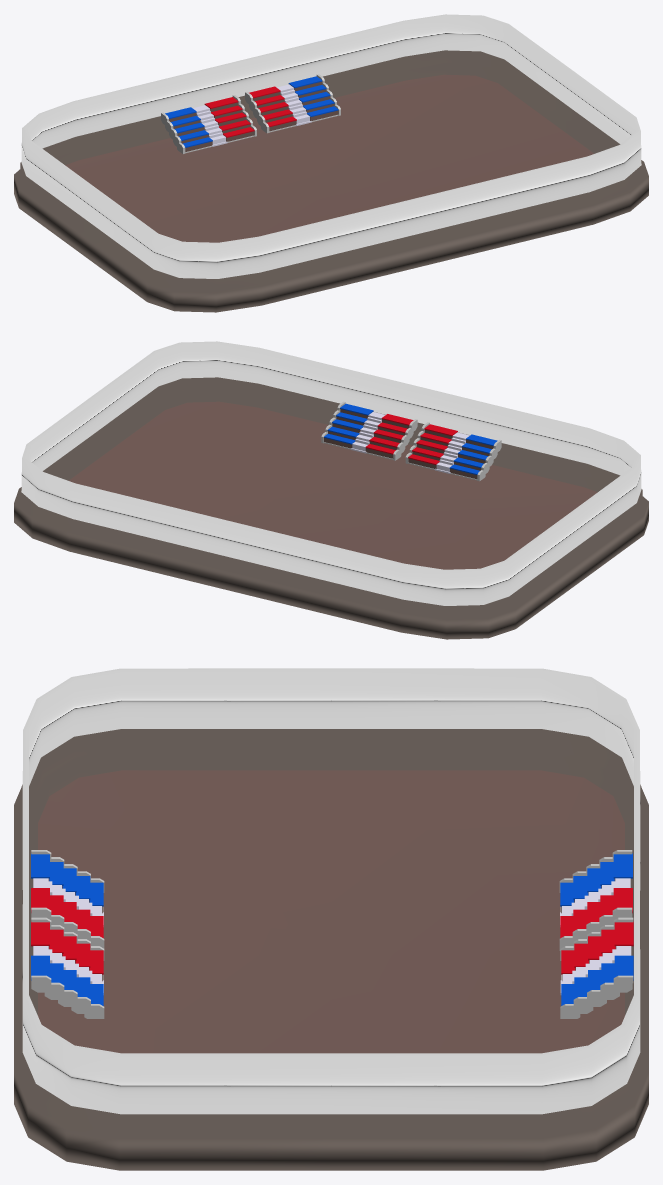
File: map2.fbx
3 renders of one model, top to bottom at view 1: azimuth 30°, elevation 25°; view 2: azimuth 150°, elevation 25°; view 3: azimuth 270°, elevation 25°, orthographic. The views are drawn at different scales.
Visible parts, largest first — view 1: Cube, Cube.002, Cube.020; view 2: Cube, Cube.001, Cube.003; view 3: Cube, Cube.002, Cube.001, Cube.020, Cube.003.
Boxes of the visible parts, x1,y1,x2,y2 form: Cube: (14,14,648,312); Cube.002: (245,74,340,133); Cube.020: (161,95,256,153); Cube: (14,341,648,639); Cube.001: (321,401,417,460); Cube.003: (405,422,501,481); Cube: (14,668,648,1170); Cube.002: (560,917,633,1018); Cube.001: (31,917,104,1018); Cube.020: (559,850,632,950); Cube.003: (31,850,104,948).
Size of the model in its own units: 4049 by 509 by 2716.
